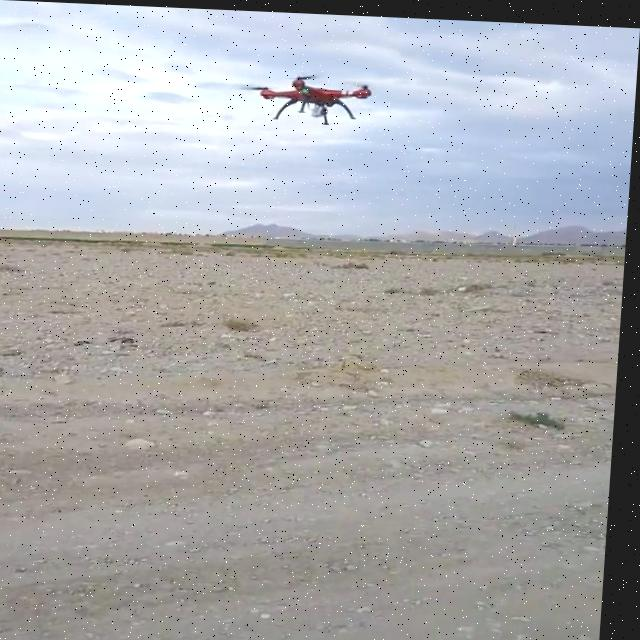drone: (241, 65, 385, 127)
